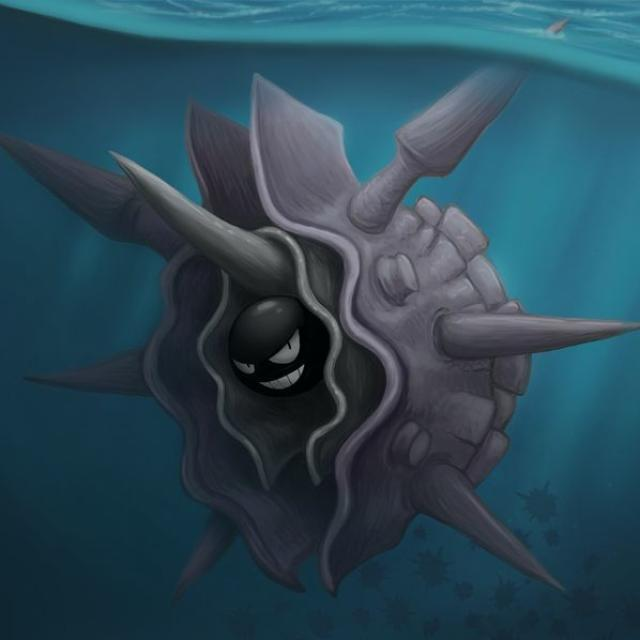Cloyster: (96, 108, 547, 542)
